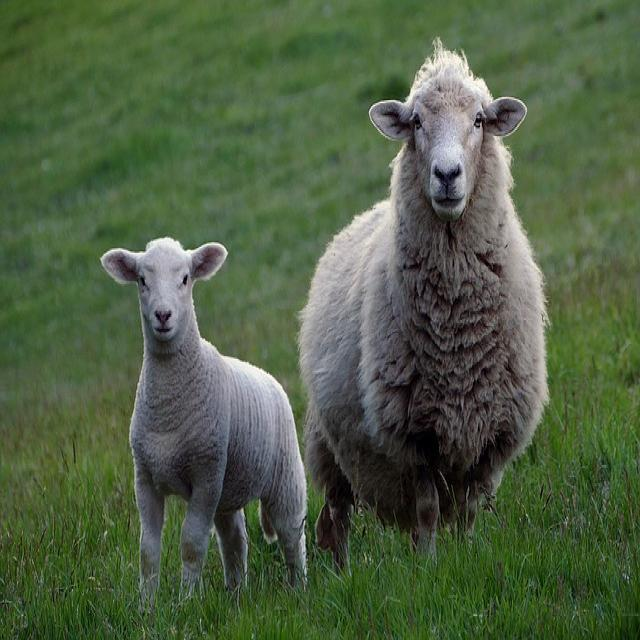goat: (298, 39, 550, 574), (99, 238, 307, 609)
